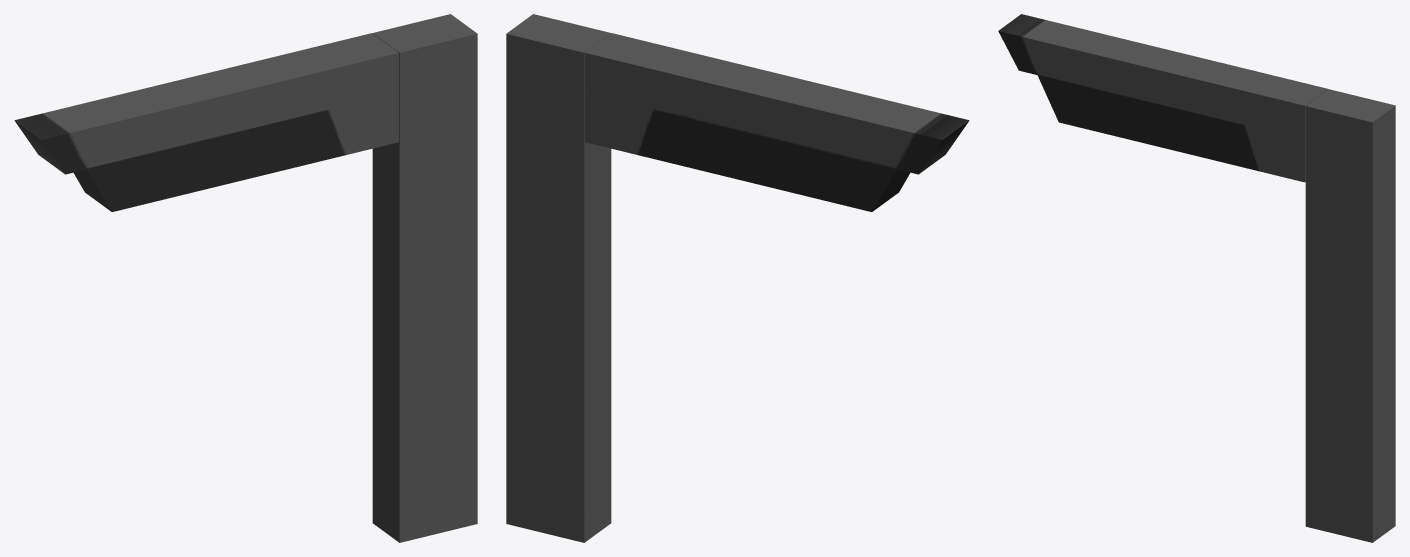
The model's file is Light_4.fbx.
The picture shows the model from 3 angles, left to right: view 1: azimuth 30°, elevation 25°; view 2: azimuth 150°, elevation 25°; view 3: azimuth 330°, elevation 25°; orthographic projection. The views are drawn at different scales.
Parts seen in each view (by area): view 1: node_id5; view 2: node_id5; view 3: node_id5.
Boxes of the visible parts, left/top/right/bottom form: node_id5: left=14, top=14, right=477, bottom=542; node_id5: left=506, top=14, right=969, bottom=542; node_id5: left=998, top=14, right=1395, bottom=542.
Bounding box in the file's own units: 0.4769 × 0.512 × 0.0512.
Materials: 1 (1 with a texture image).
